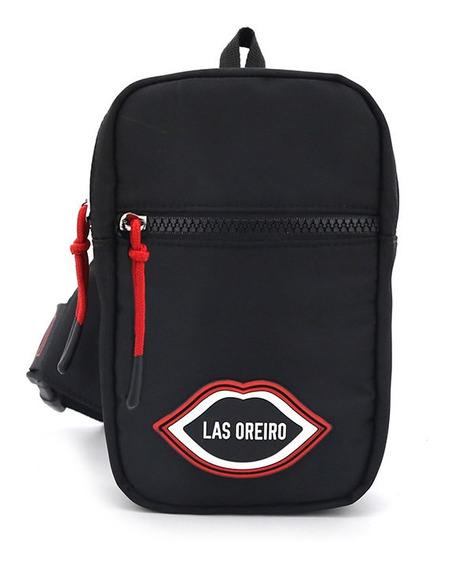cartera: (86, 27, 400, 518)
